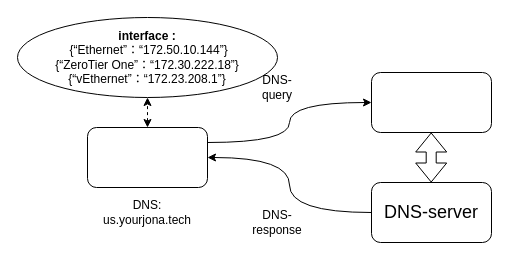
Some shapes in this 509 by 260 pixel diagram are drawn without their labels. Here are the shapes that lost their labels. From the top down, the box of each, then its label:
(370, 72, 492, 132): US-server
(86, 126, 208, 188): sag-windows
